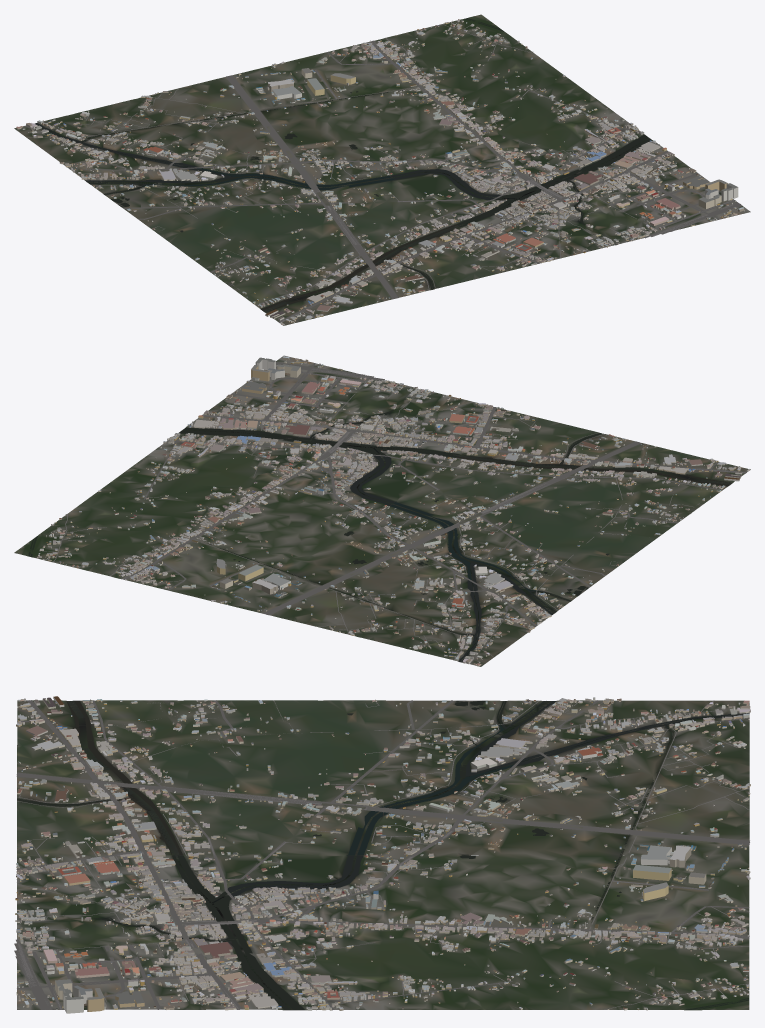
The picture shows the model from 3 angles, top to bottom: view 1: azimuth 30°, elevation 25°; view 2: azimuth 150°, elevation 25°; view 3: azimuth 270°, elevation 25°; orthographic projection. The views are drawn at different scales.
Parts seen in each view (by area): view 1: ground, buildings, roads, water; view 2: ground, buildings, roads, water; view 3: ground, buildings, roads, water.
Boxes of the visible parts, <box> form: ground: <box>14,14,750,325</box>; buildings: <box>16,19,744,325</box>; roads: <box>25,24,741,323</box>; water: <box>35,18,720,312</box>; ground: <box>14,355,750,666</box>; buildings: <box>37,356,750,666</box>; roads: <box>39,362,746,663</box>; water: <box>28,410,730,662</box>; ground: <box>17,700,749,1010</box>; buildings: <box>15,696,750,1013</box>; roads: <box>14,700,749,1010</box>; water: <box>17,700,749,1009</box>.
Size of the model in its own units: 2854 by 62.37 by 2818.
